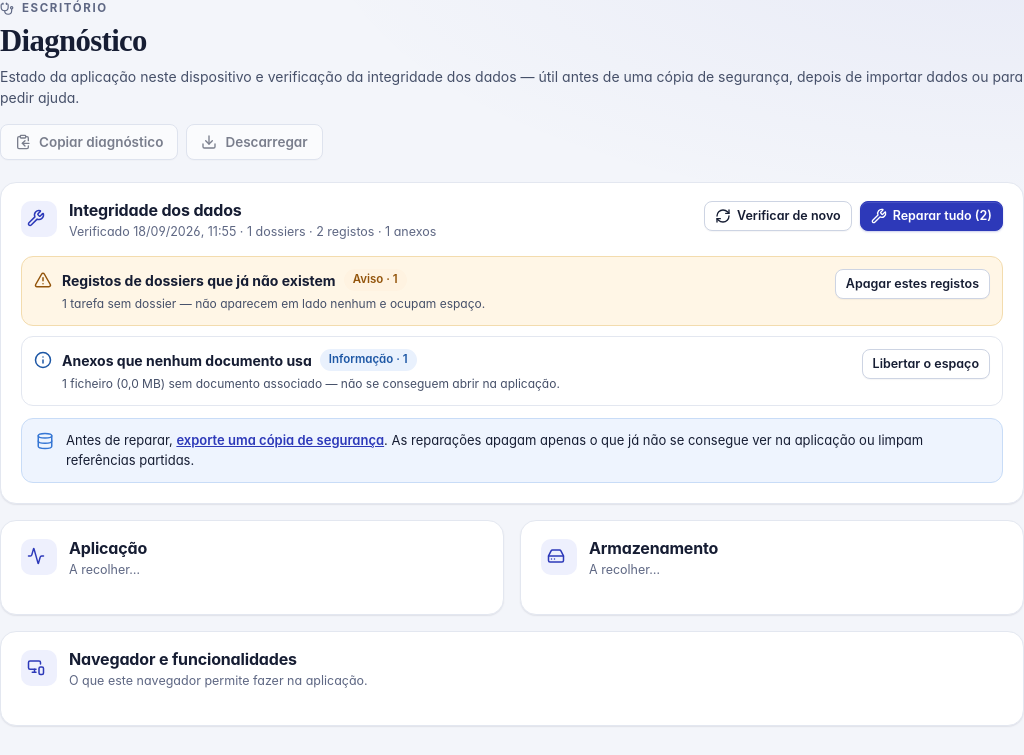
Test: Página de diagnóstico › com problemas: lista-os e repara tudo depois de confirmar
This screenshot has width=1024, height=755.
Expected: the text "Registos de dossiers que já não existem" is shown, [62,270,336,290]
Expected: the text "Anexos que nenhum documento usa" is shown, [62,350,312,370]
Step 1. Click the button "Reparar tudo (2)" → (931, 216), box [860,201,1003,231]
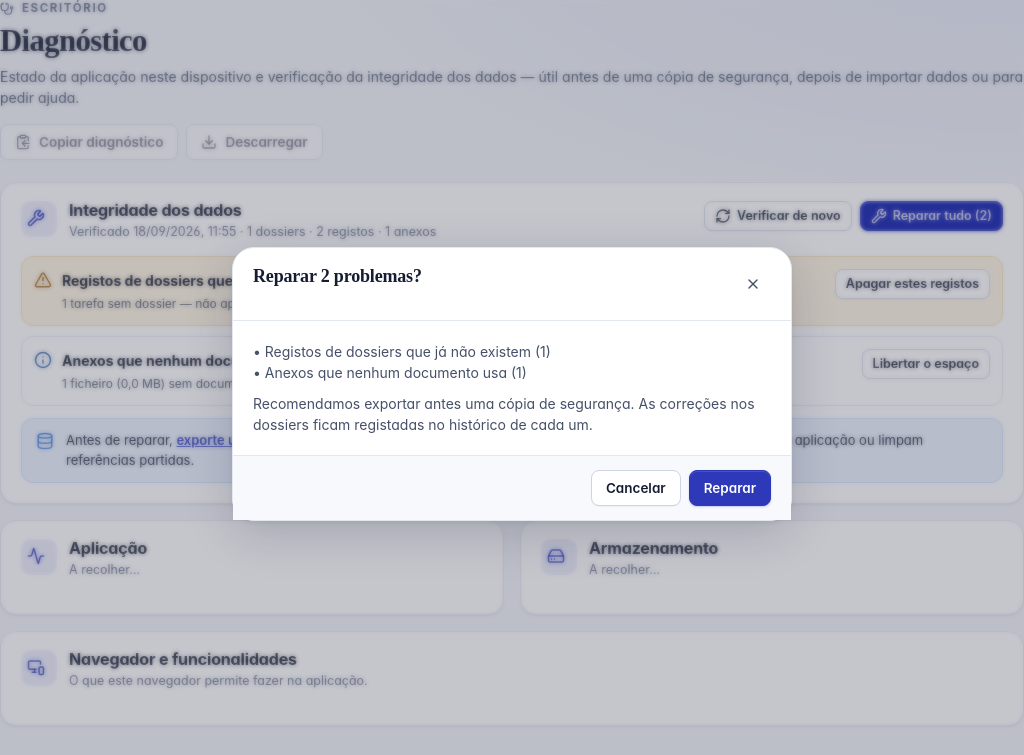
Step 2. Click the button "Reparar" → (730, 488), box [689,470,771,506]
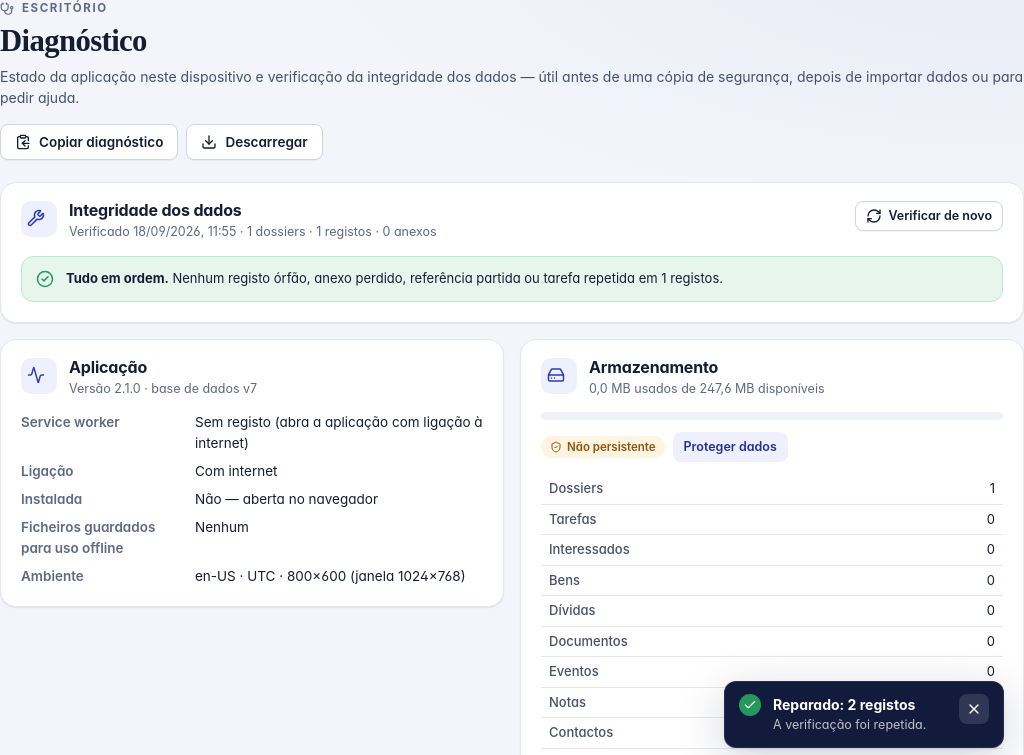
Expected: the text "Reparado: 2 registos" is shown, [773,696,915,713]
Expected: the text "Tudo em ordem." is shown, [66,270,169,286]
